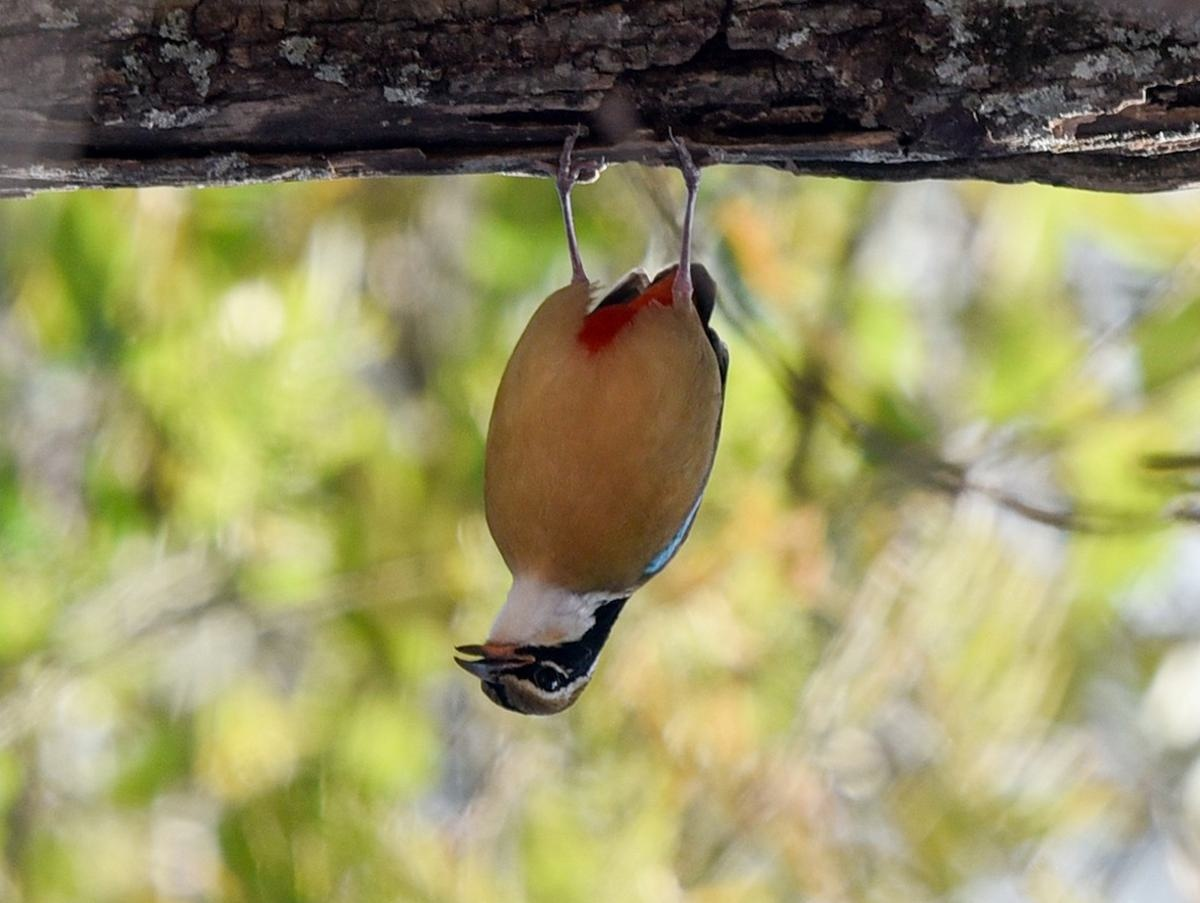pitta: (447, 145, 788, 733)
